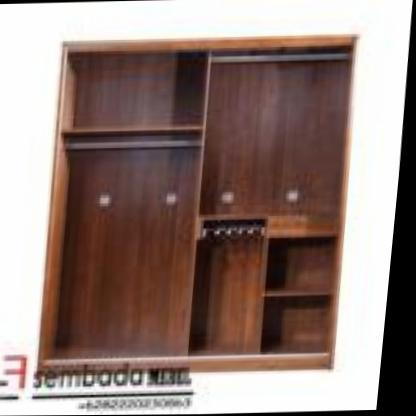Closet: (30, 28, 373, 384)
